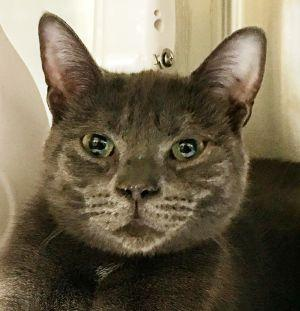rblue: (21, 1, 279, 279)
